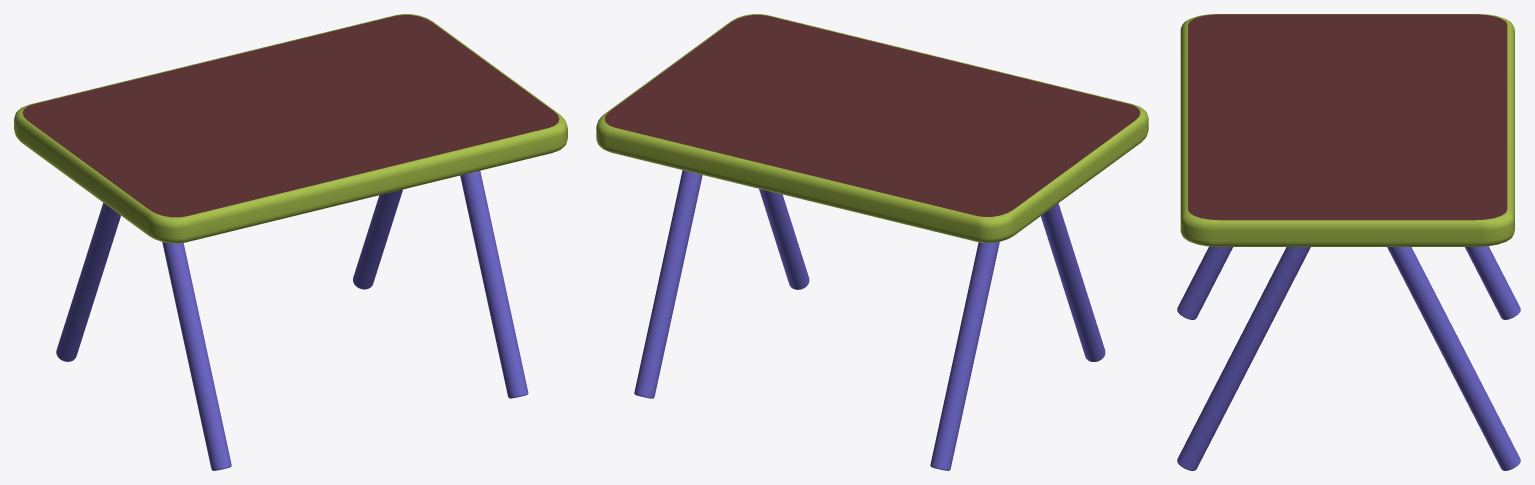
Rendered from DeskToImport.fbx.
3 views of the same model, side by side, from view 1: azimuth 30°, elevation 25°; view 2: azimuth 150°, elevation 25°; view 3: azimuth 270°, elevation 25° (orthographic). The views are drawn at different scales.
Visible parts, largest first — view 1: polySurface11, polySurface9, polySurface1, polySurface4, polySurface3, polySurface2; view 2: polySurface11, polySurface9, polySurface3, polySurface2, polySurface1, polySurface4; view 3: polySurface11, polySurface9, polySurface2, polySurface4, polySurface3, polySurface1.
Part boxes in pixels (left/top/right/bottom): polySurface11: left=22, top=15, right=559, bottom=217; polySurface9: left=14, top=14, right=567, bottom=243; polySurface1: left=162, top=242, right=231, bottom=470; polySurface4: left=460, top=171, right=528, bottom=398; polySurface3: left=56, top=203, right=120, bottom=361; polySurface2: left=353, top=189, right=402, bottom=289; polySurface11: left=604, top=15, right=1140, bottom=216; polySurface9: left=596, top=14, right=1148, bottom=242; polySurface3: left=930, top=241, right=999, bottom=470; polySurface2: left=634, top=170, right=702, bottom=398; polySurface1: left=1041, top=203, right=1105, bottom=361; polySurface4: left=759, top=189, right=809, bottom=289; polySurface11: left=1188, top=14, right=1507, bottom=220; polySurface9: left=1180, top=14, right=1514, bottom=246; polySurface2: left=1387, top=247, right=1520, bottom=470; polySurface4: left=1177, top=247, right=1310, bottom=470; polySurface3: left=1465, top=246, right=1520, bottom=319; polySurface1: left=1177, top=246, right=1232, bottom=319.
Bounding box in the file's own units: 9.99 × 6.08 × 6.88.
